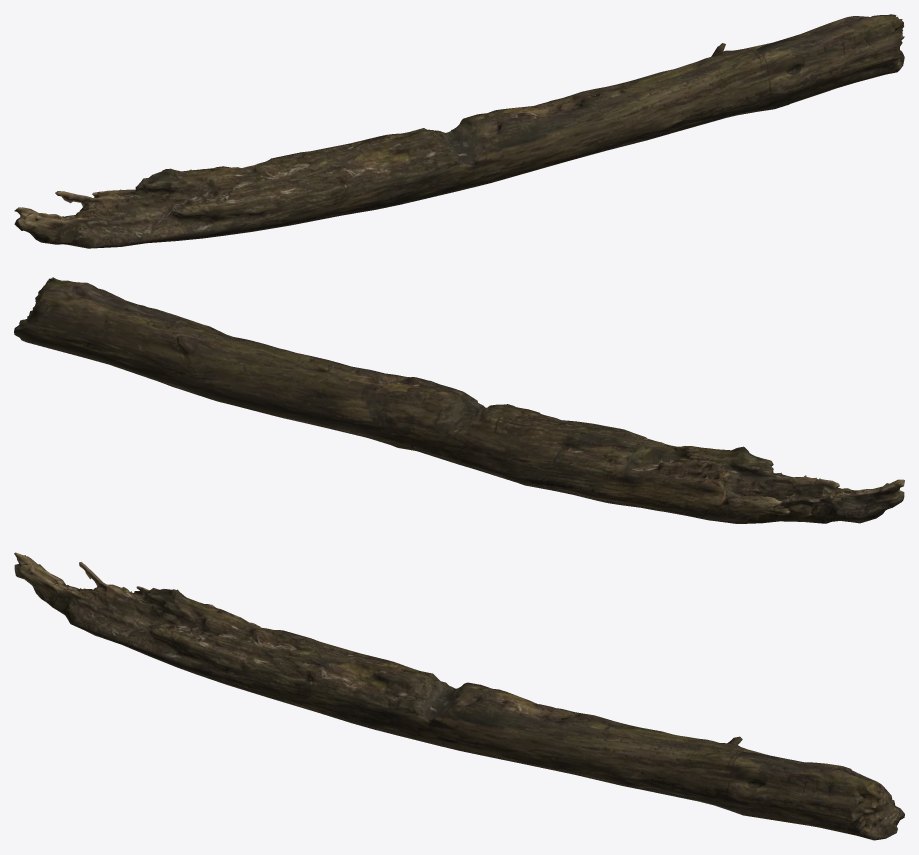
The model's file is dead_tree_trunk.glb.
The picture shows the model from 3 angles, top to bottom: view 1: azimuth 30°, elevation 25°; view 2: azimuth 150°, elevation 25°; view 3: azimuth 330°, elevation 25°; orthographic projection.
Parts seen in each view (by area): view 1: dead_tree_trunk; view 2: dead_tree_trunk; view 3: dead_tree_trunk.
Boxes of the visible parts, x1,y1,x2,y2 form: dead_tree_trunk: [14, 14, 904, 248]; dead_tree_trunk: [14, 277, 904, 523]; dead_tree_trunk: [14, 552, 904, 840].
Bounding box in the file's own units: 3.05 × 0.2898 × 0.2775.
1 material, 1 textured.
